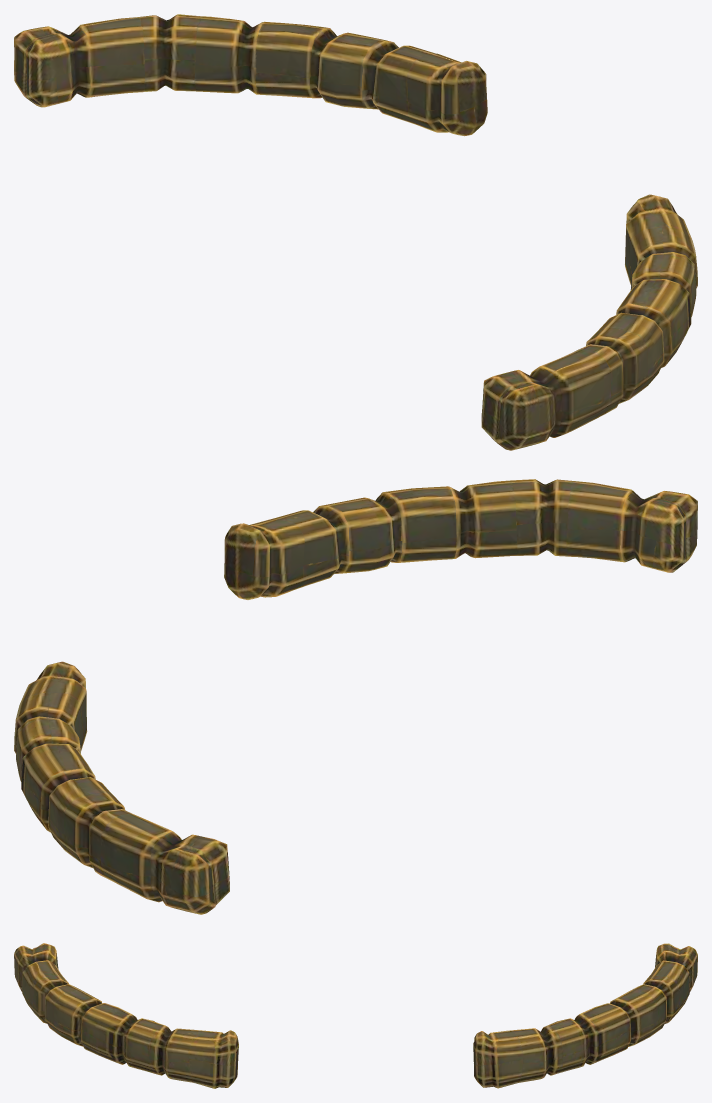
3 views of the same model, one above another, from view 1: azimuth 30°, elevation 25°; view 2: azimuth 150°, elevation 25°; view 3: azimuth 270°, elevation 25° (orthographic). The views are drawn at different scales.
Parts seen in each view (by area): view 1: chassis; view 2: chassis; view 3: chassis.
Boxes of the visible parts, x1=… form: chassis: x1=14, y1=14, x2=697, y2=450; chassis: x1=14, y1=479, x2=697, y2=914; chassis: x1=14, y1=943, x2=697, y2=1088.
Size of the model in its own units: 0.2947 by 0.0684 by 0.7799.
Materials: 1 (1 with a texture image).
